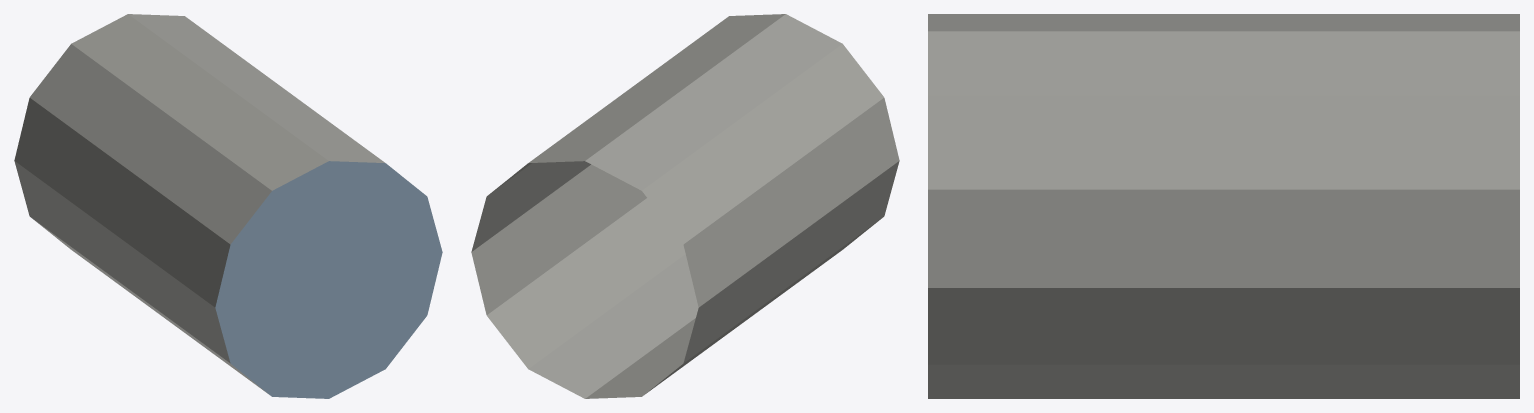
Rendered from island_bldg_10_04.obj.
3 renders of one model, left to right at view 1: azimuth 30°, elevation 25°; view 2: azimuth 150°, elevation 25°; view 3: azimuth 270°, elevation 25°, orthographic. The views are drawn at different scales.
Parts seen in each view (by area): view 1: island_bldg_10_04; view 2: island_bldg_10_04; view 3: island_bldg_10_04.
Part boxes in pixels (x1,y1,x2,y2): island_bldg_10_04: (14, 14, 442, 398); island_bldg_10_04: (471, 14, 899, 398); island_bldg_10_04: (928, 14, 1519, 398).
Size of the model in its own units: 32 by 32 by 49.
